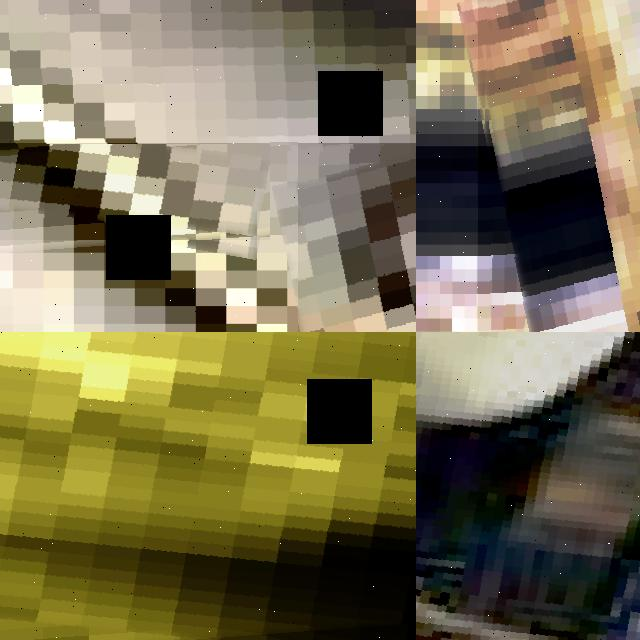arms: (0, 332, 416, 640), (416, 332, 640, 640), (478, 0, 640, 332), (28, 0, 416, 113), (0, 128, 270, 239), (522, 150, 640, 332), (298, 153, 416, 325)
